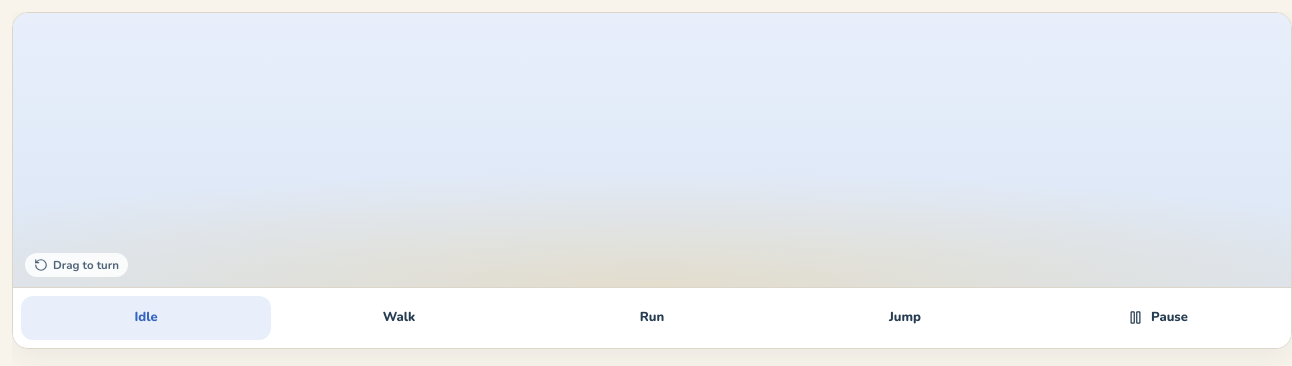
Test: character preview controls › offers Idle, Walk, Run, Jump and Pause as toggle buttons; choosing a motion resumes playback
Expected: the element named "Preview animation" is shown, [13,287,1291,348]
What coordinates should you click on to do the following:
click the button "Walk"
I would click on:
 (399, 318)
Its box is [274,296,524,340].
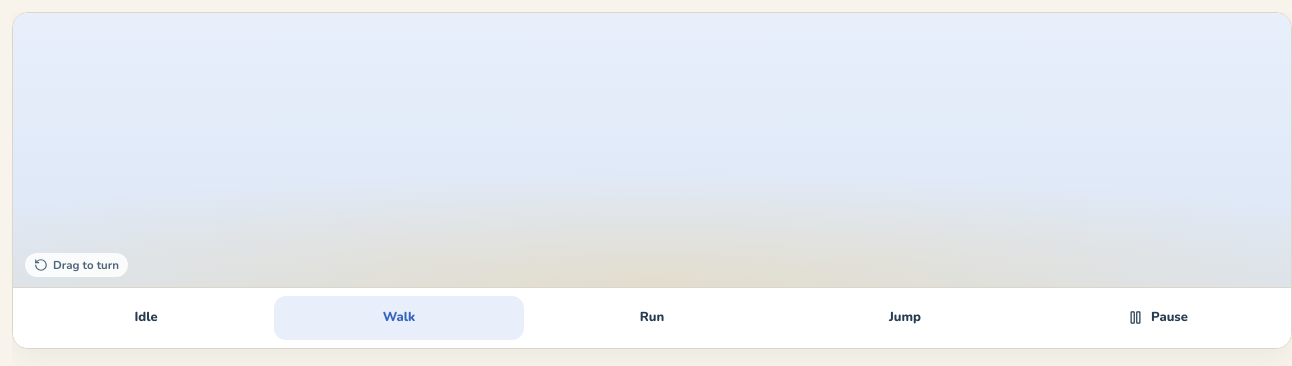
Result: the button "Walk" is pressed at [274,296,524,340]
Result: the button "Idle" is not pressed at [21,296,271,340]
What coordinates should you click on to do the following:
click the button with aria-label "Pause character animation"
I would click on:
 (1158, 318)
Its box is [1033,296,1283,340].
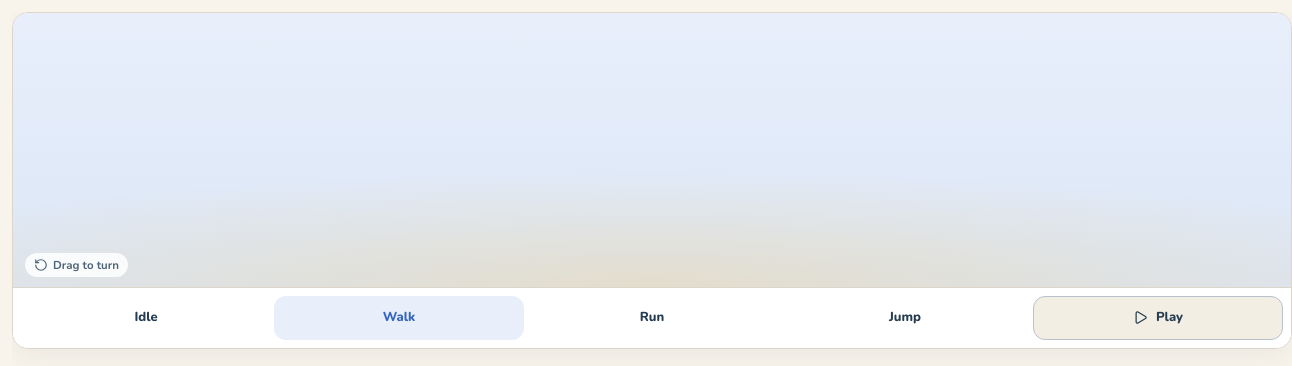
Result: the button with aria-label "Play character animation" is pressed at [1033,296,1283,340]
What coordinates should you click on to do the following:
click the button "Run"
I would click on:
 (652, 318)
Its box is [527,296,777,340].
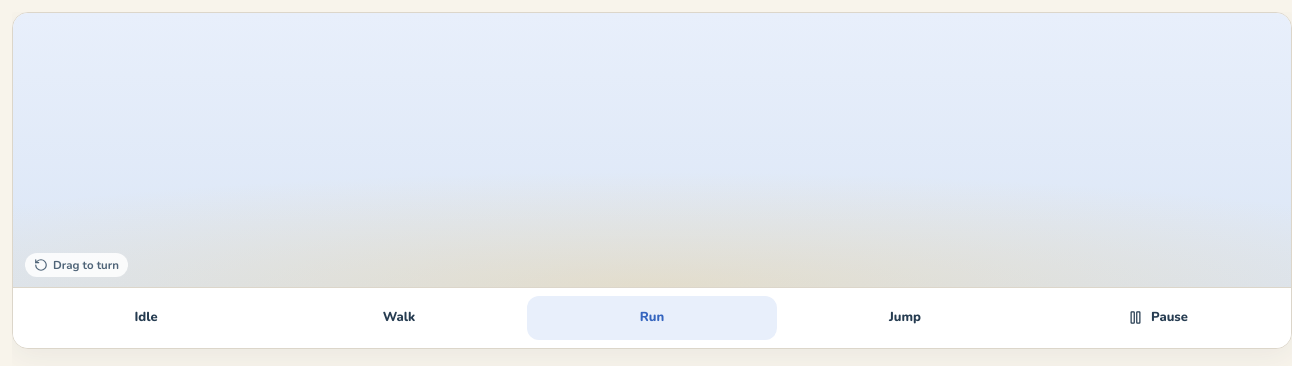
Expected: the text "Drag to turn" is shown, [25,253,128,277]
Result: the button with aria-label "Pause character animation" is shown at [1033,296,1283,340]
